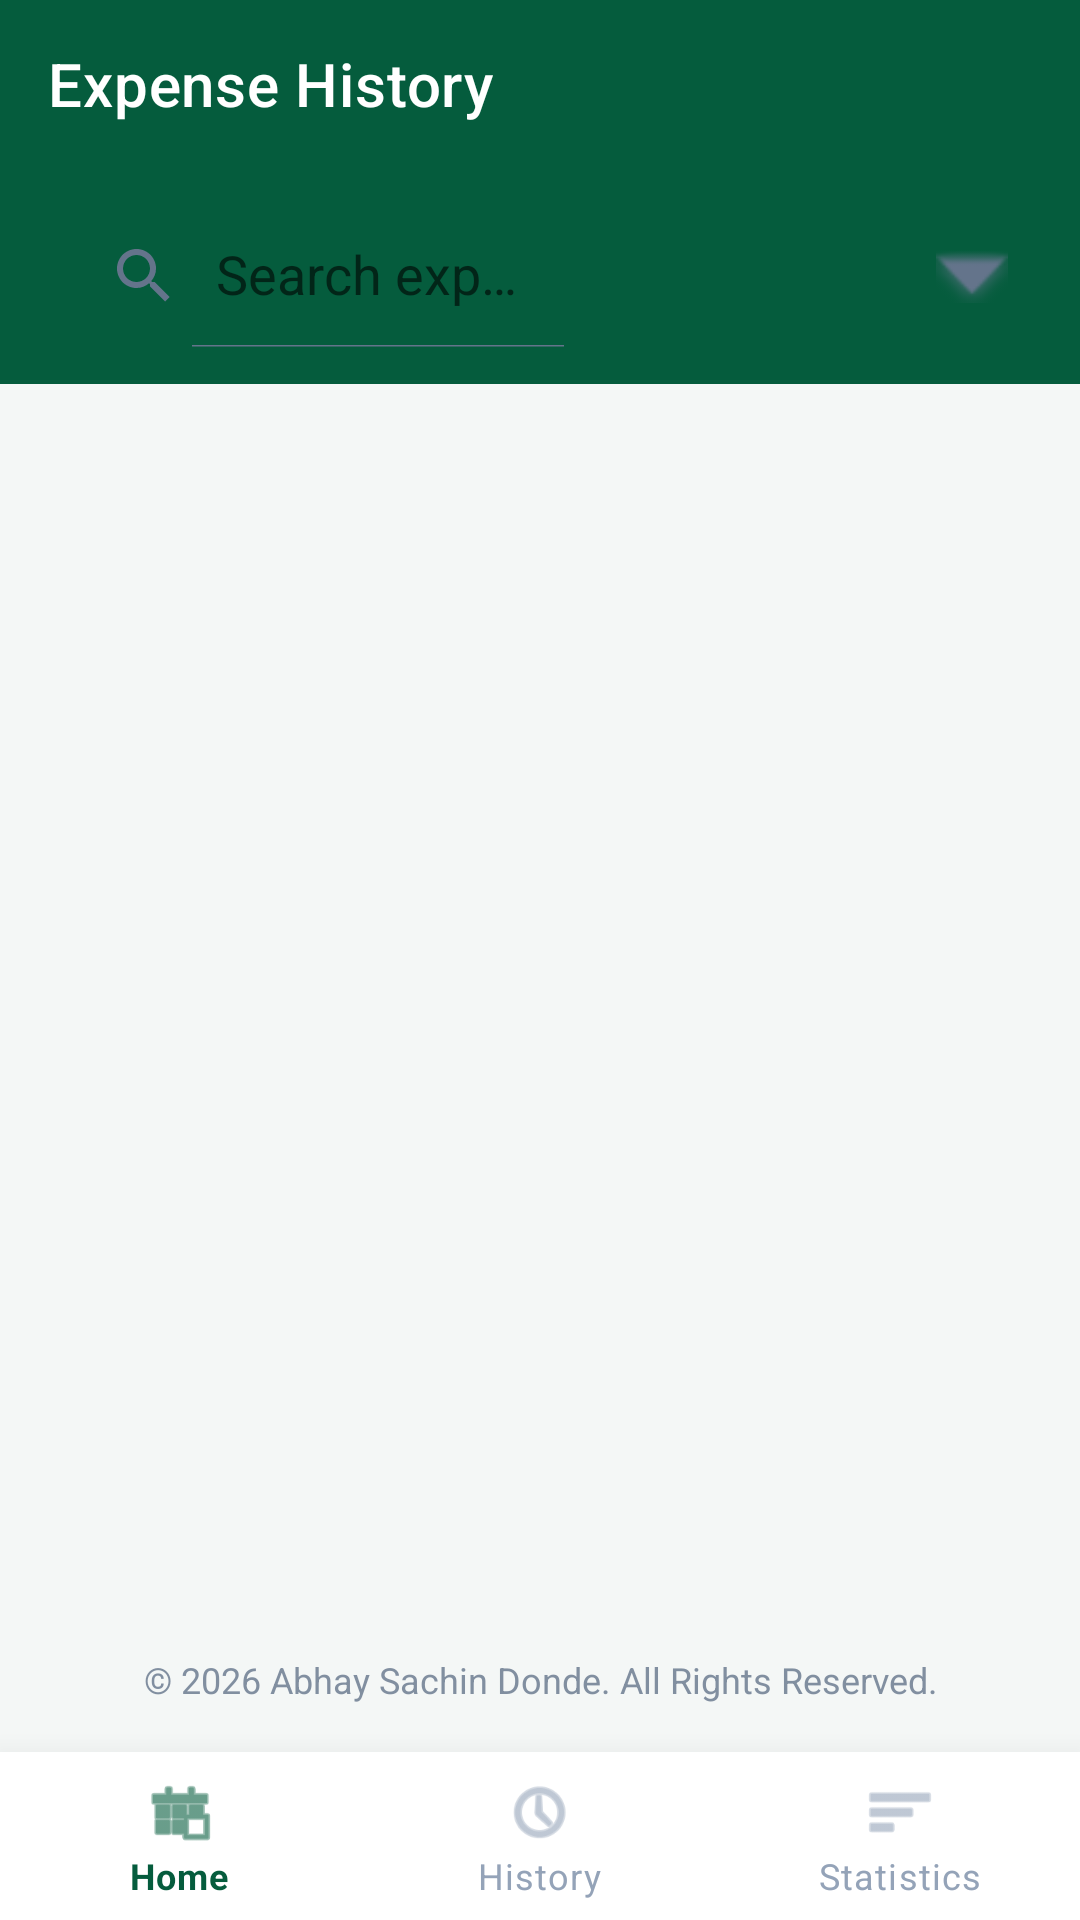

Icon click points for this 1080 × 1920 phone screenshot, format (x=x, y=y):
arrow down float: (x=972, y=274)
